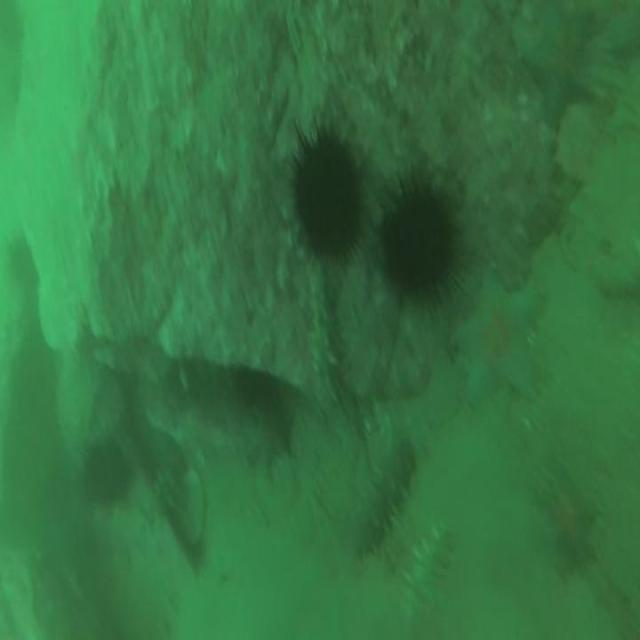echinus: (381, 179, 455, 300), (296, 137, 362, 261), (84, 434, 132, 509)
holothurian: (340, 436, 418, 553), (400, 518, 456, 632), (309, 264, 337, 412)
scallop: (178, 468, 206, 545)
starfish: (455, 267, 547, 403), (522, 8, 596, 120), (538, 471, 592, 559)
